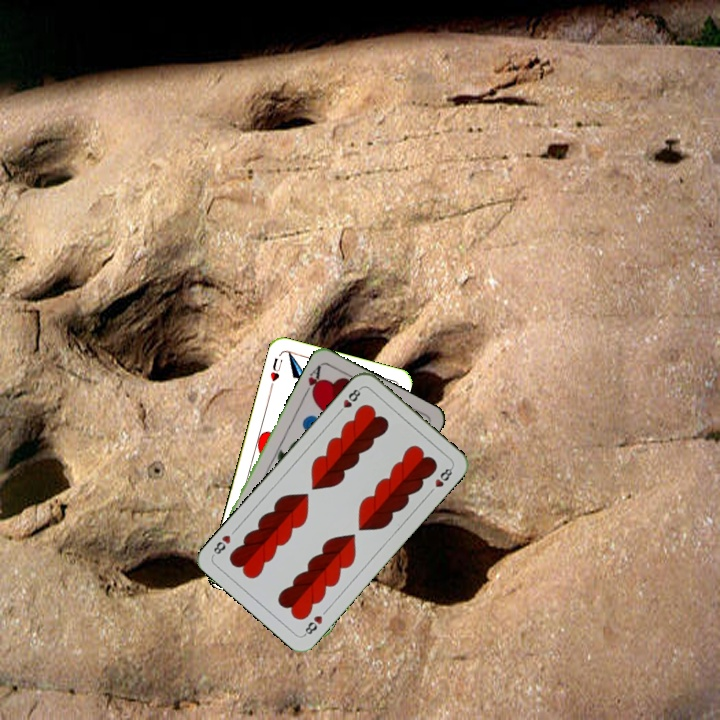H8: (333, 384, 364, 417), (299, 611, 325, 639)
HA: (300, 361, 324, 400)
HU: (266, 354, 285, 391)
